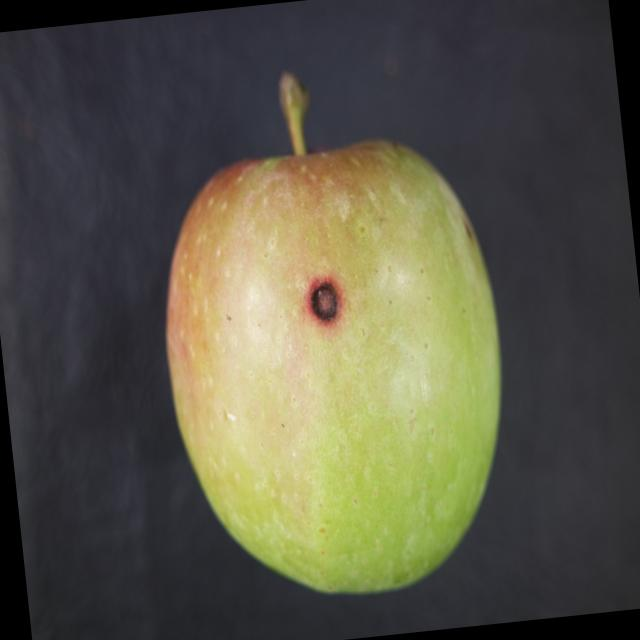rotten: (142, 118, 532, 622)
